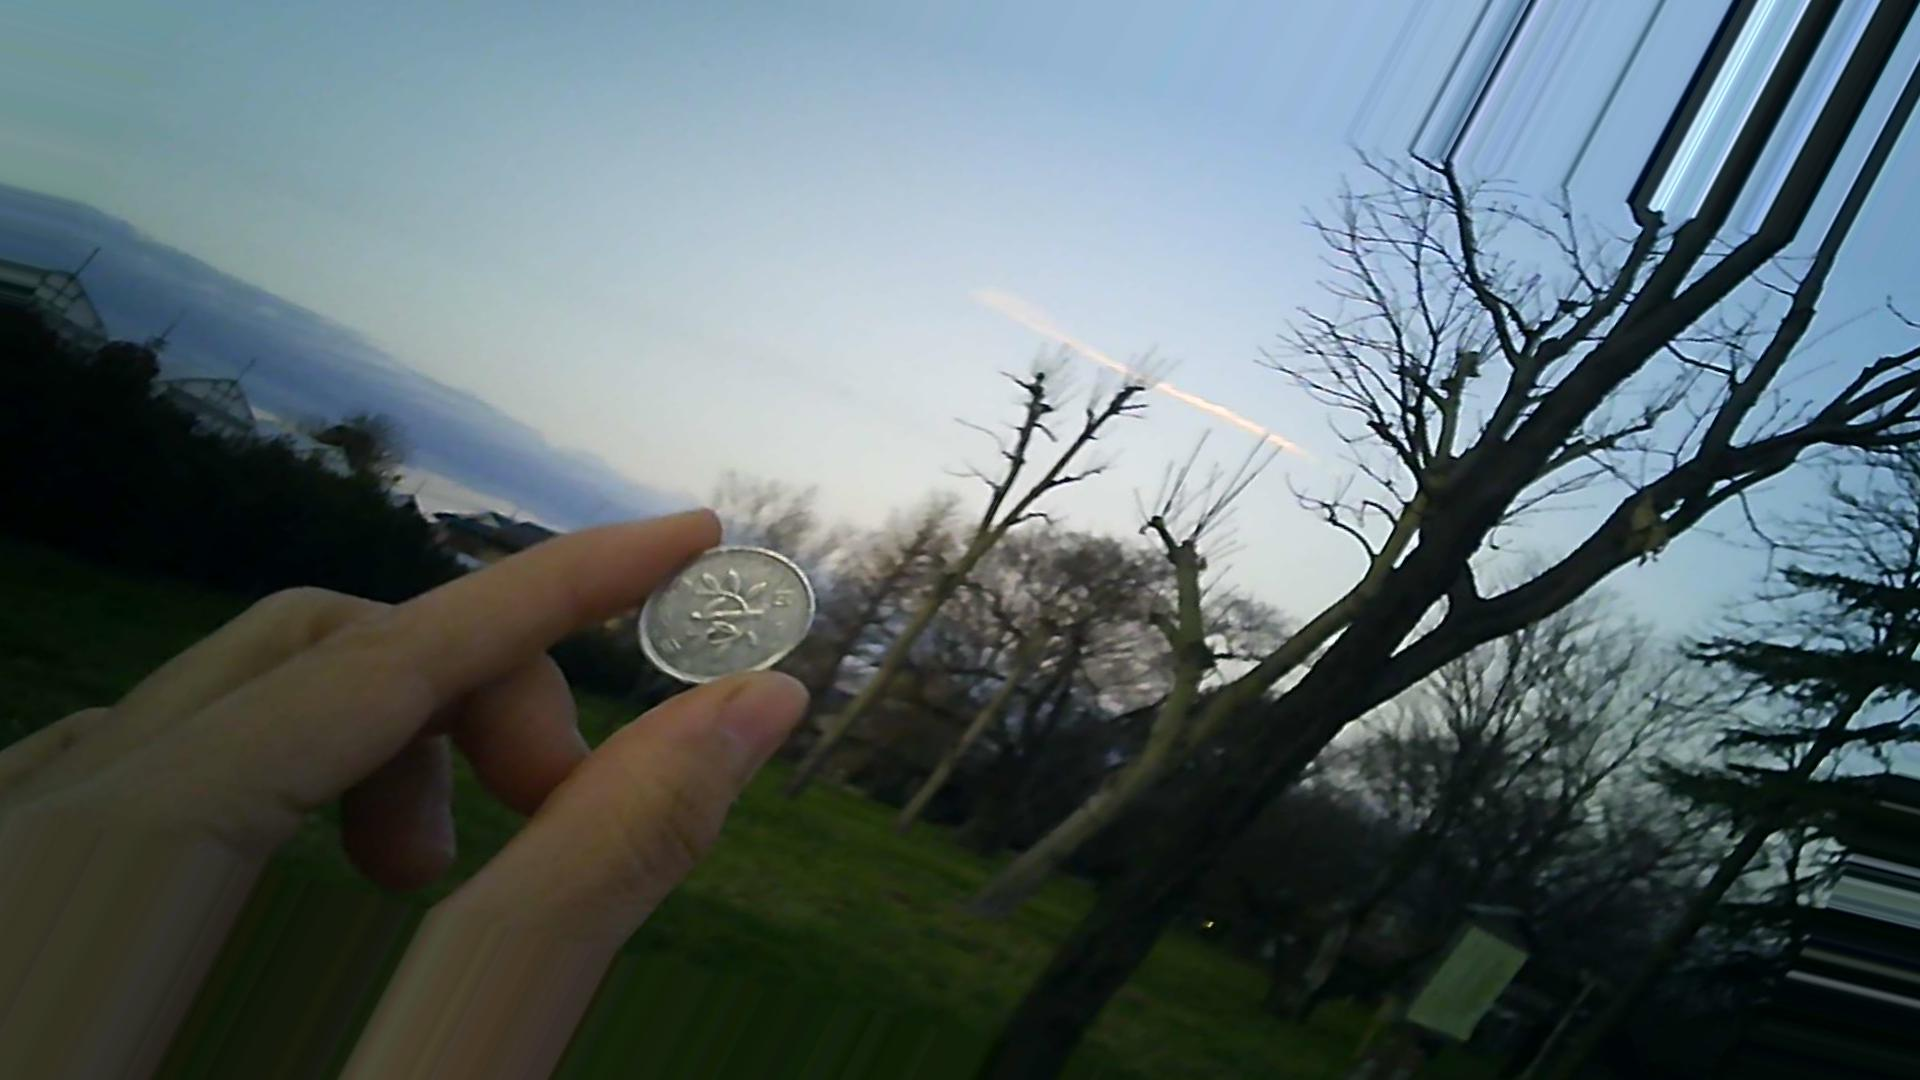1 Yen: (626, 547, 827, 688)
